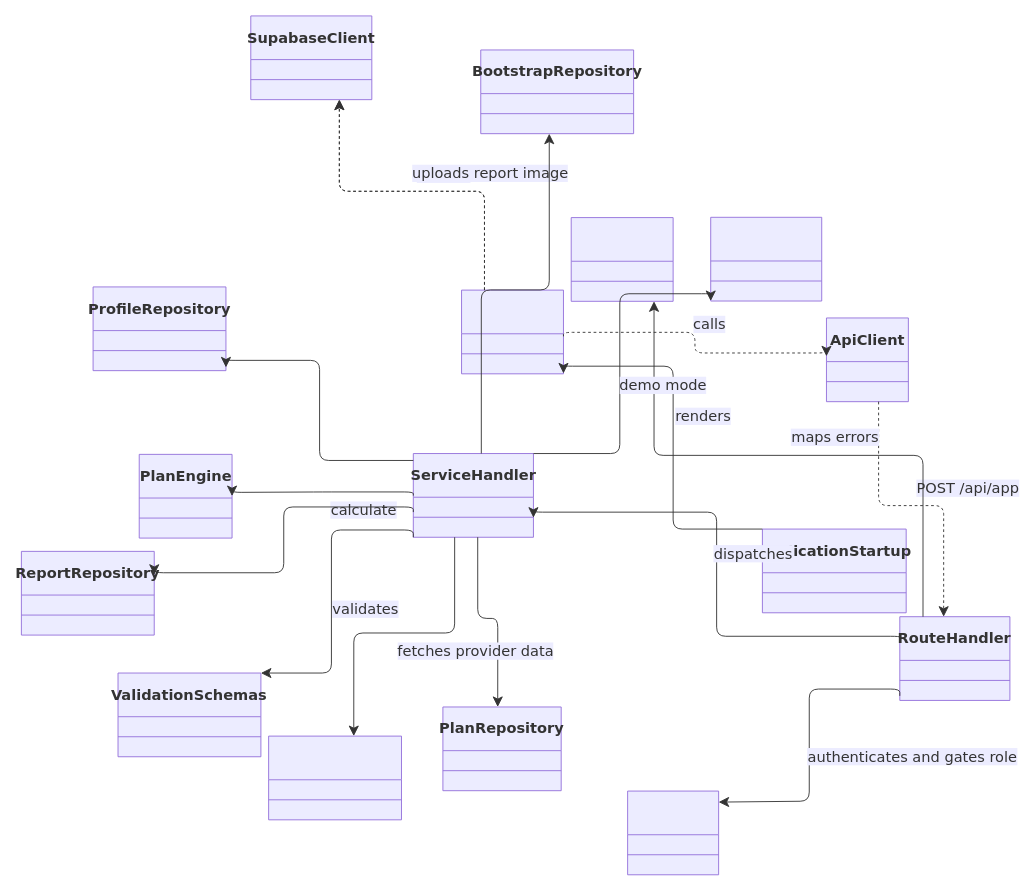
Some shapes in this 1035 by 891 pixel diagram are drawn without their labels. The centre of each missing label's shape, as x and y in pixels:
"AuthGuard" belongs at [673,832].
"DemoFixtures" belongs at [766,258].
"ErrorMapper" belongs at [621,259].
"PlugPlanApp" belongs at [512,331].
"ProviderGateway" belongs at [334,777].
